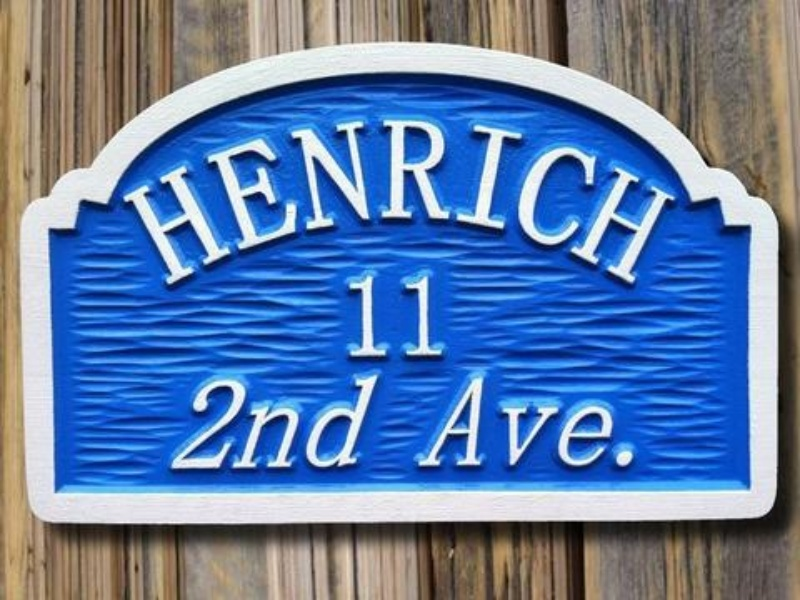text: (129, 117, 144, 289), (145, 117, 160, 289), (161, 117, 176, 289), (177, 117, 192, 289), (193, 117, 208, 289), (209, 117, 224, 289), (225, 117, 240, 289), (241, 117, 256, 289), (257, 117, 272, 289), (273, 117, 288, 289), (289, 117, 304, 289), (305, 117, 320, 289), (321, 117, 336, 289), (337, 117, 352, 289), (353, 117, 368, 289), (369, 117, 384, 289), (385, 117, 400, 289), (401, 117, 416, 289), (417, 117, 432, 289), (433, 117, 448, 289), (449, 117, 464, 289), (465, 117, 480, 289), (481, 117, 496, 289), (497, 117, 512, 289), (513, 117, 528, 289), (529, 117, 544, 289), (545, 117, 560, 289), (561, 117, 576, 289), (577, 117, 592, 289), (593, 117, 608, 289), (609, 117, 624, 289), (625, 117, 640, 289), (641, 117, 656, 289), (657, 117, 672, 289), (193, 371, 208, 476), (209, 371, 224, 476), (225, 371, 240, 476), (241, 371, 256, 476), (257, 371, 272, 476), (273, 371, 288, 476), (289, 371, 304, 476), (305, 371, 320, 476), (321, 371, 336, 476), (337, 371, 352, 476), (353, 371, 368, 476), (369, 371, 384, 476), (353, 269, 368, 364), (369, 269, 384, 364), (385, 269, 400, 364), (401, 269, 416, 364), (417, 269, 432, 364), (465, 376, 480, 469), (481, 376, 496, 469), (497, 376, 512, 469), (513, 376, 528, 469), (529, 376, 544, 469), (545, 376, 560, 469), (561, 376, 576, 469), (577, 376, 592, 469), (593, 376, 608, 469), (609, 376, 624, 469), (625, 376, 640, 469), (433, 269, 444, 364), (673, 117, 679, 289), (344, 269, 352, 364), (186, 371, 192, 476), (459, 376, 464, 469), (126, 117, 128, 289), (641, 376, 644, 469)
